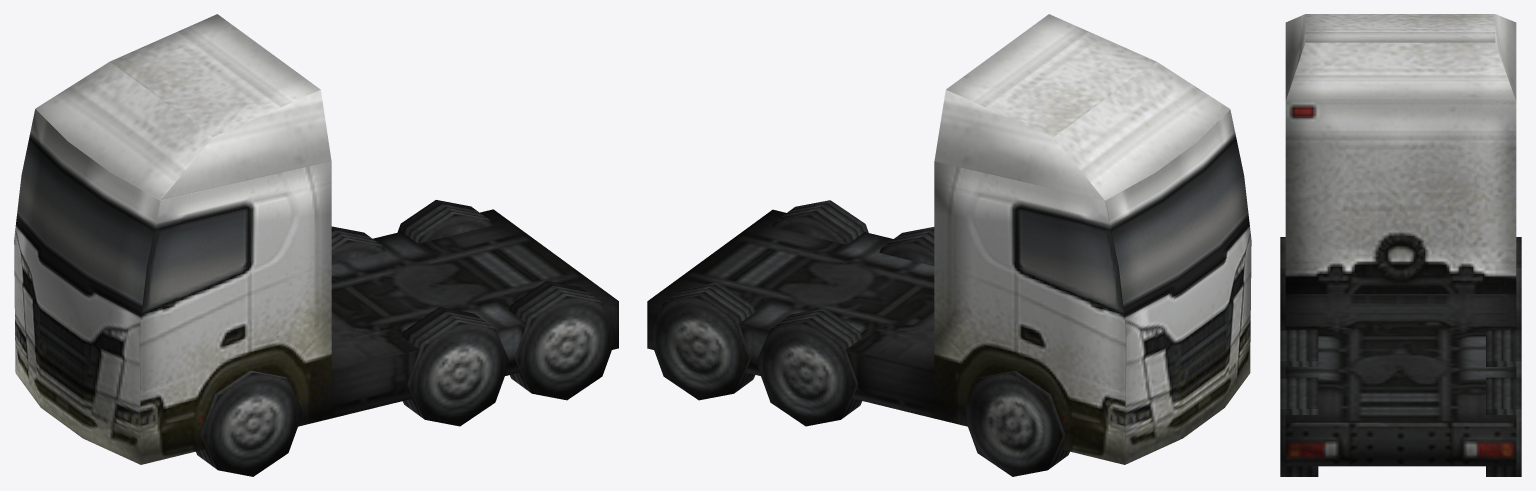
File: lorryfront0.fbx
3 renders of one model, left to right at view 1: azimuth 30°, elevation 25°; view 2: azimuth 150°, elevation 25°; view 3: azimuth 270°, elevation 25°, orthographic. The views are drawn at different scales.
Parts seen in each view (by area): view 1: lorryfront0; view 2: lorryfront0; view 3: lorryfront0.
Part boxes in pixels (x1,y1,x2,y2): lorryfront0: (14, 14, 618, 476); lorryfront0: (647, 14, 1251, 476); lorryfront0: (1280, 14, 1521, 476).
Size of the model in its own units: 551 by 254 by 381.
1 material, 1 textured.
